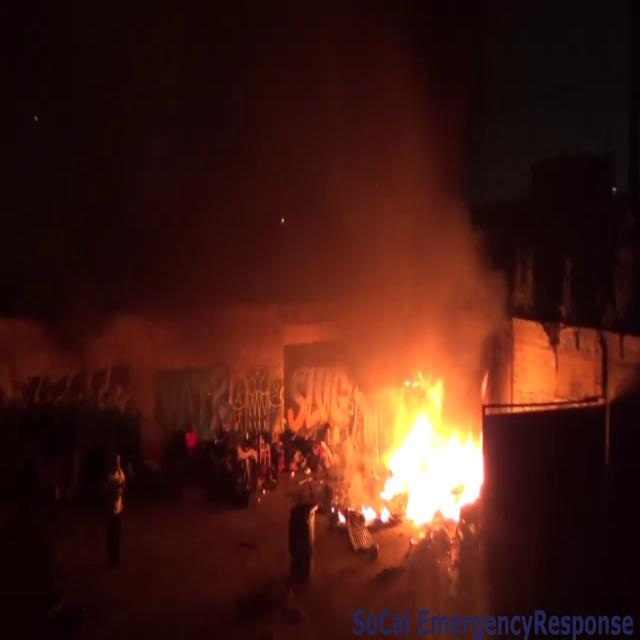Fire: (340, 350, 492, 540)
Smoke: (272, 41, 498, 347)
